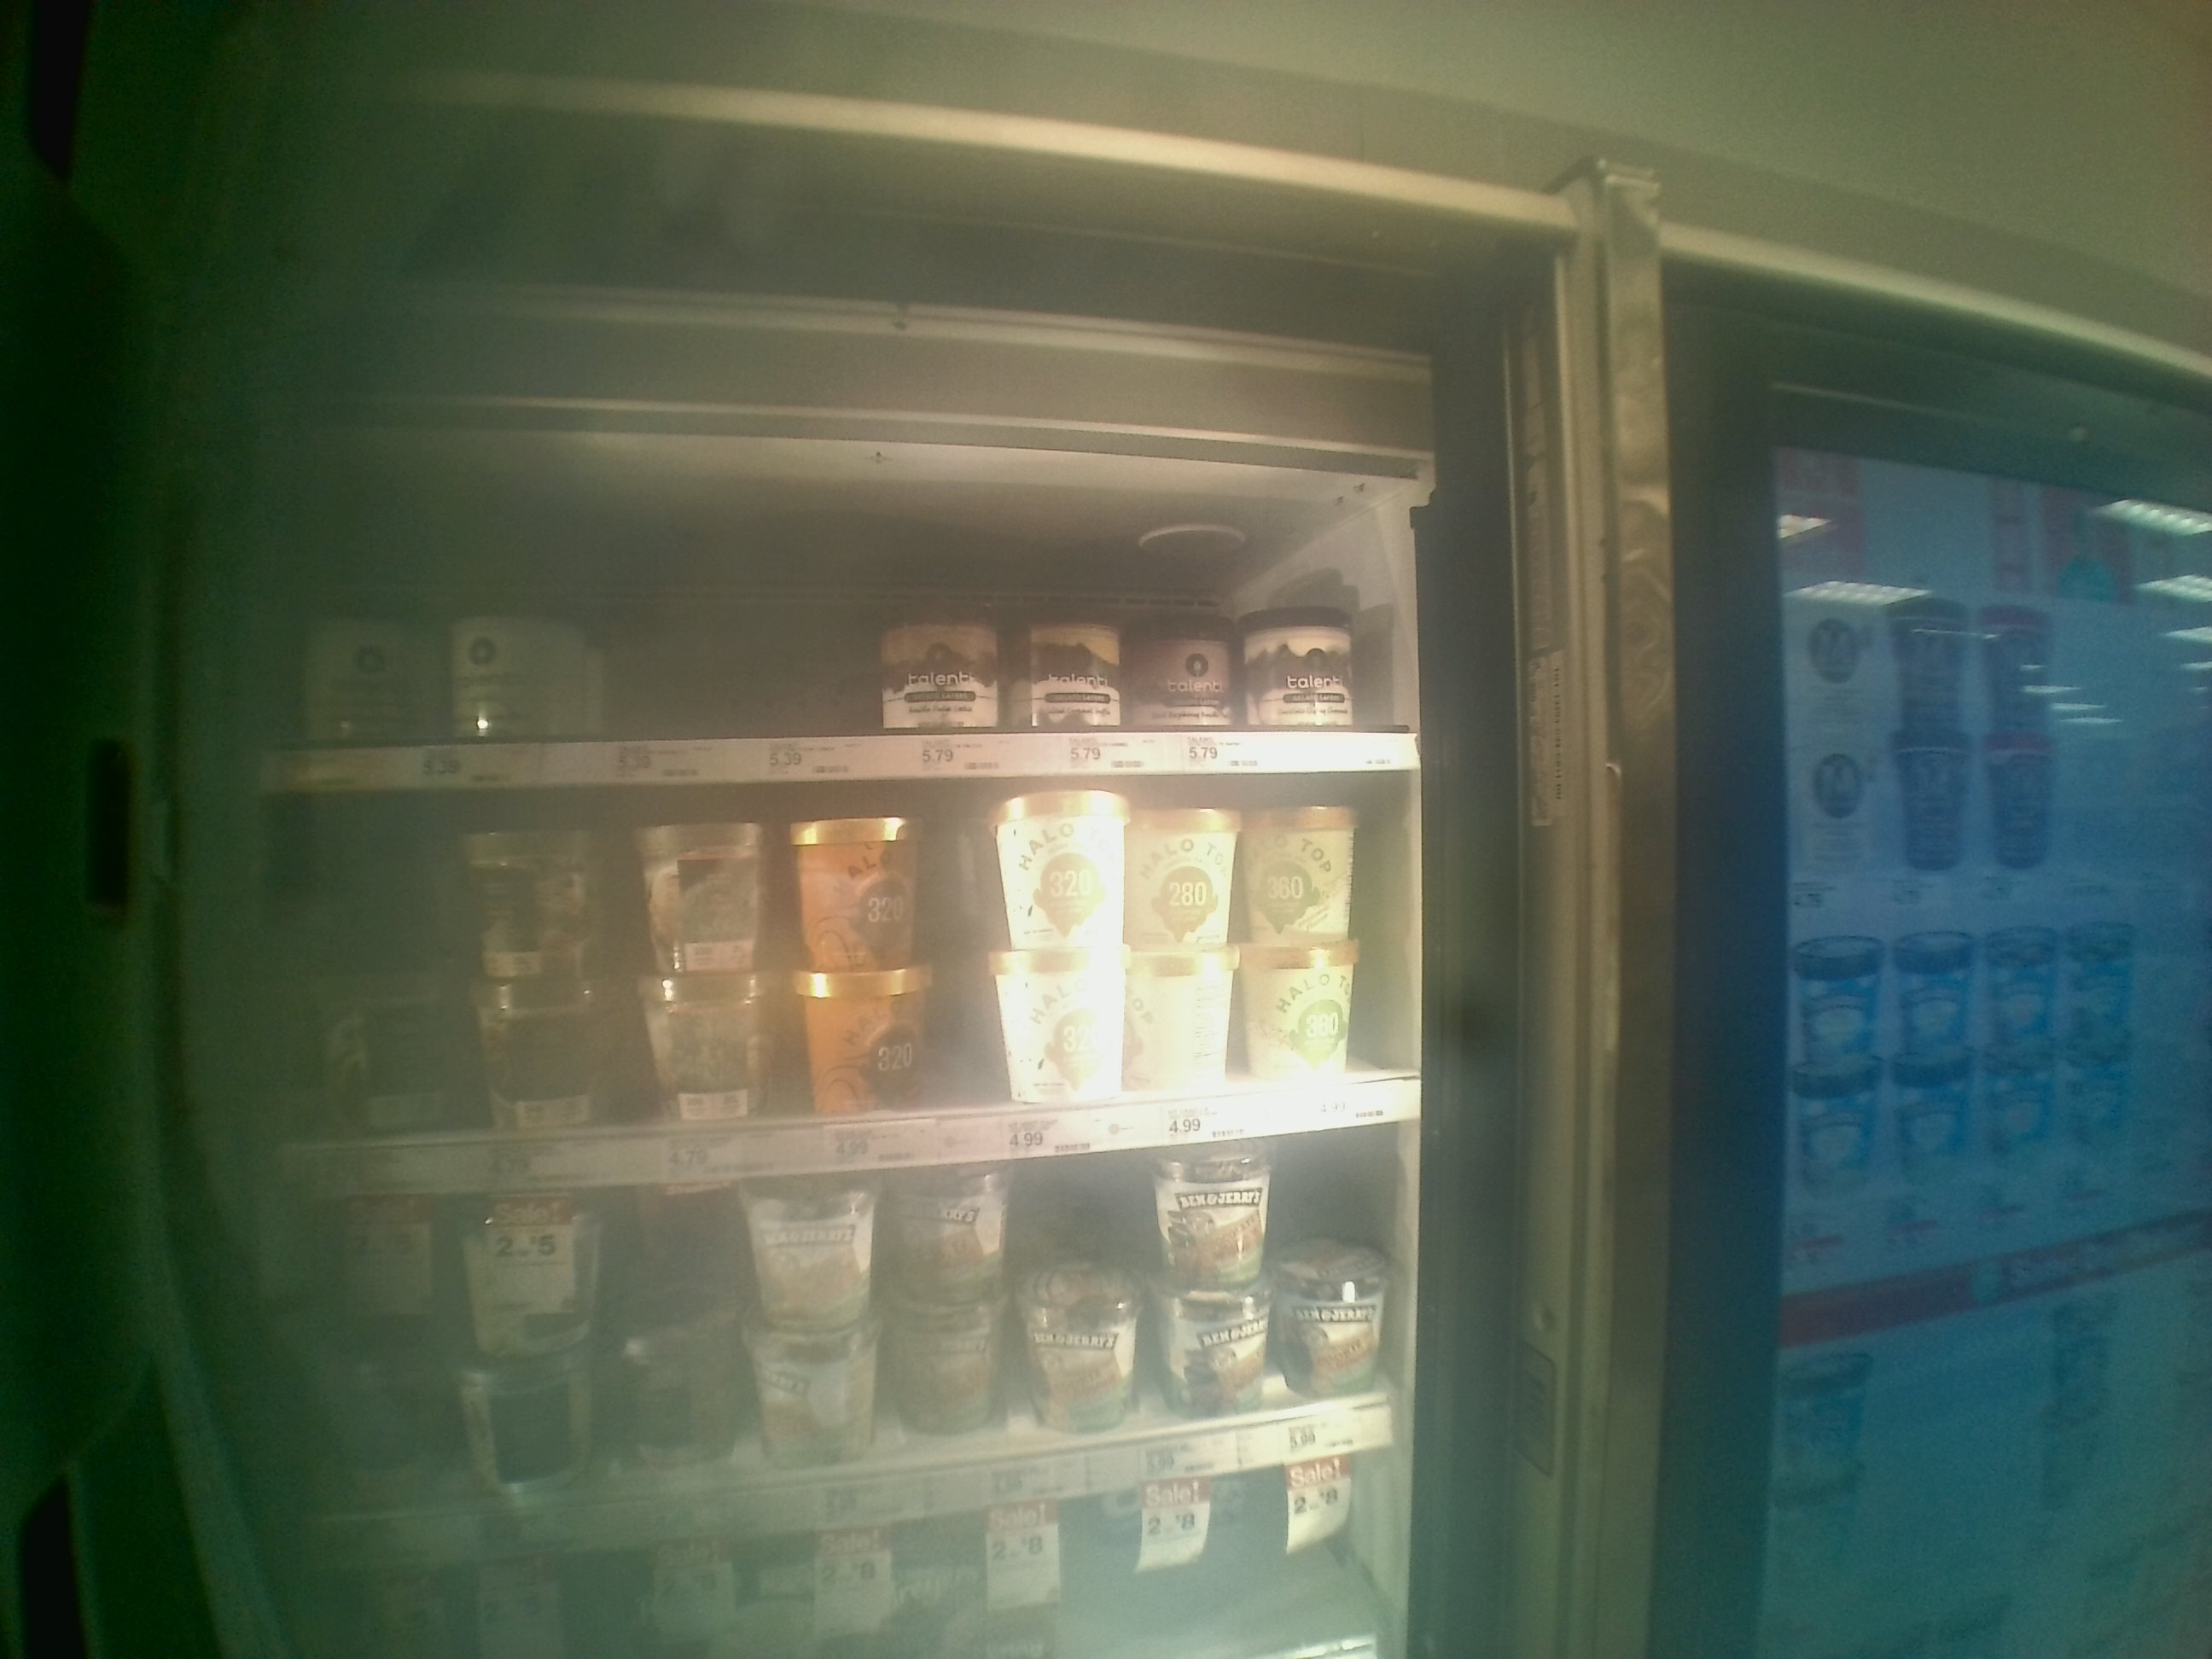shelf: (225, 788, 1435, 1161), (230, 450, 1435, 782)
